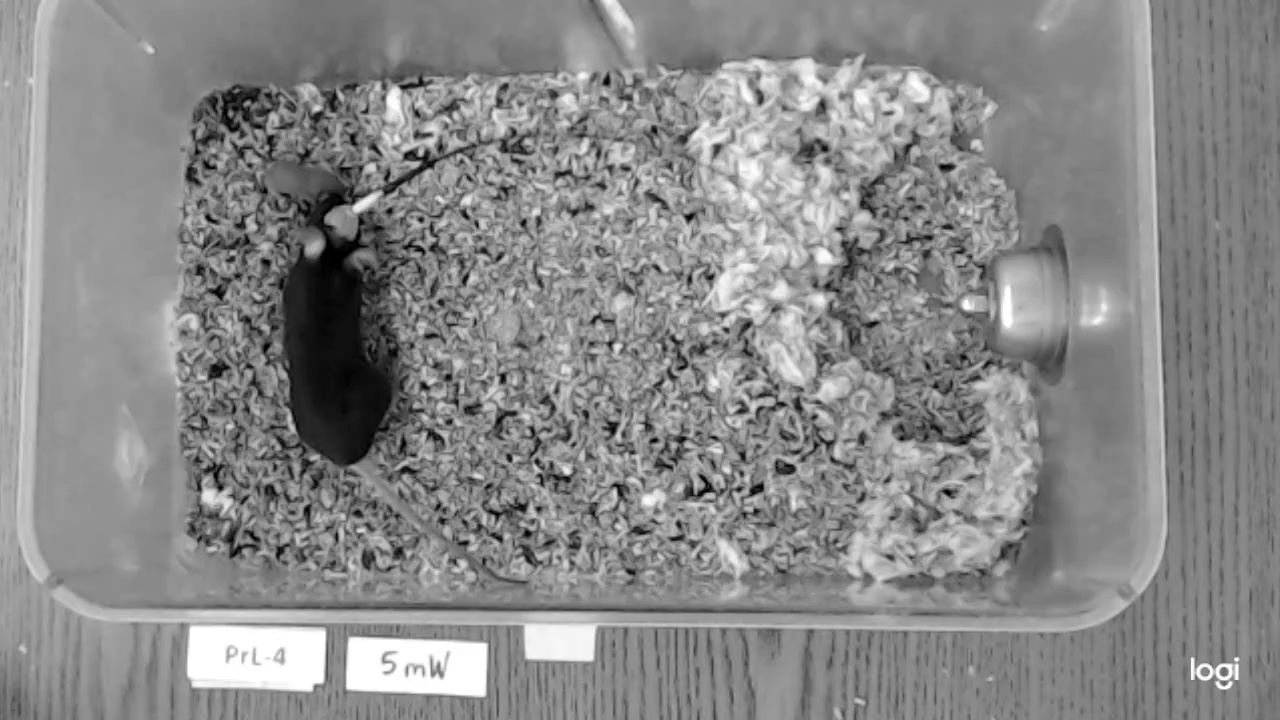parent-mice: (281, 193, 393, 467)
